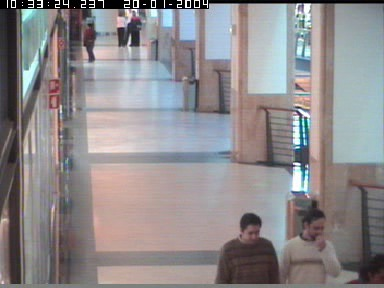person: (277, 209, 341, 284), (214, 212, 280, 284), (345, 253, 384, 284), (126, 11, 143, 47), (83, 23, 96, 63), (117, 10, 127, 47)
